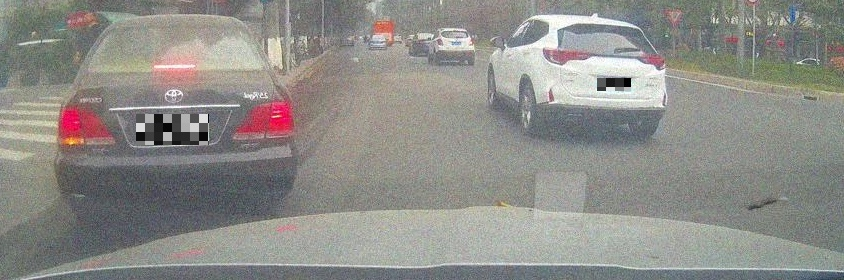L_light: (56, 107, 117, 146), (543, 47, 591, 66), (436, 39, 443, 46)
R_light: (231, 101, 296, 140), (636, 53, 666, 71), (468, 39, 474, 46)
T_light: (154, 64, 196, 69), (596, 24, 615, 28), (452, 31, 459, 32)
day-left: (53, 14, 299, 201)
day-no: (542, 15, 668, 138), (435, 28, 475, 65)
plate_1: (136, 114, 209, 145)
plate_2: (597, 78, 631, 91)
